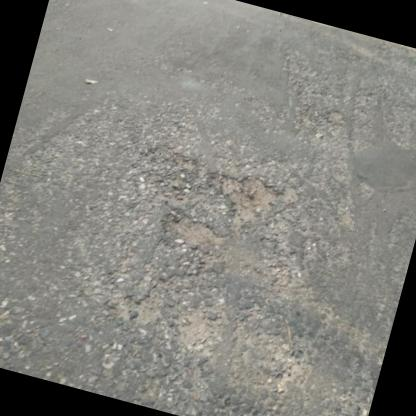pothole: (212, 168, 282, 233), (161, 208, 223, 252)
